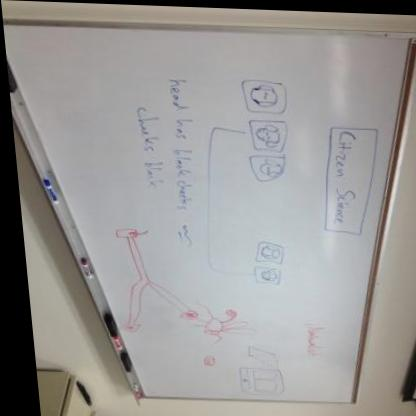Handwritten text: (159, 74, 193, 218), (127, 100, 166, 203), (325, 128, 359, 226)
Whiteboard: (0, 24, 413, 402)
